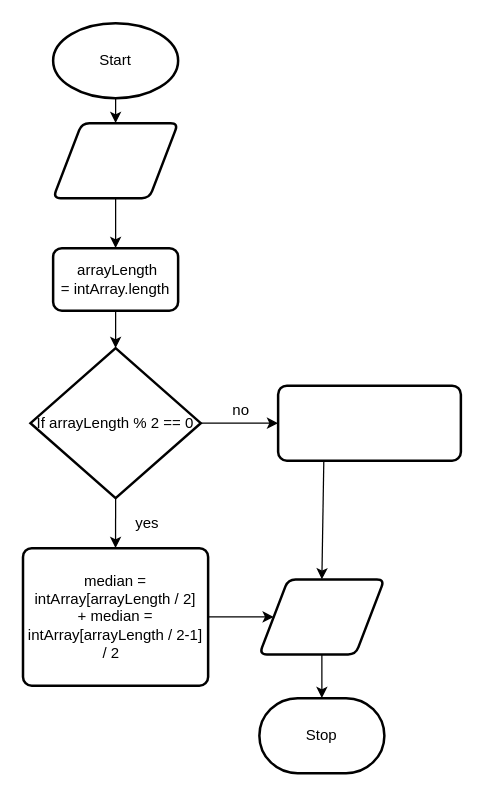
This 484x795 diagram has some shape labels left out. Here are the shapes that lost their labels. From the top down, the box of each, then its label:
(51, 121, 179, 199): Get Integer[] intArray
(276, 384, 462, 461): median = intArray[arrayLength / 2]
(258, 578, 385, 655): return median
